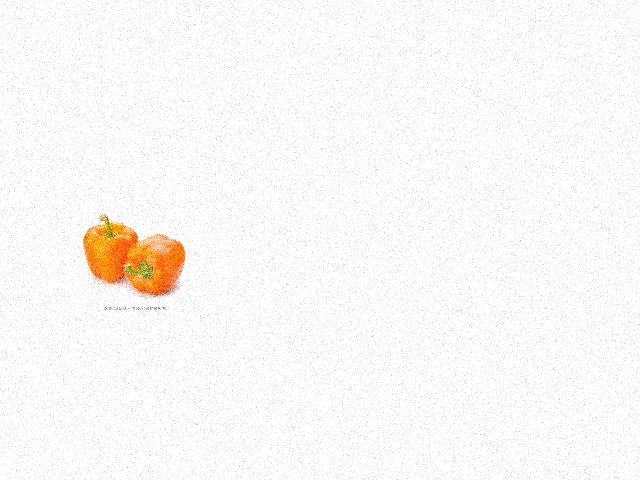bell_pepper: (121, 232, 186, 300)
